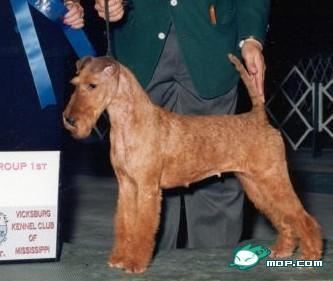wire-haired_fox_terrier: (60, 56, 325, 273)
